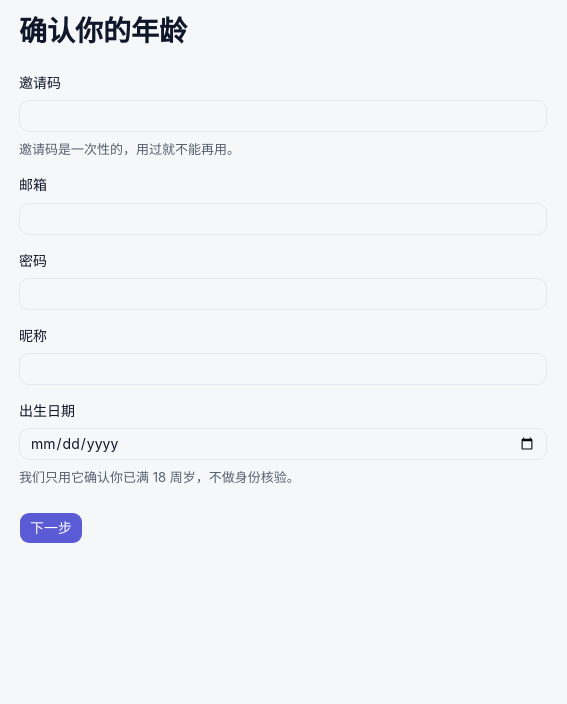
(h) 步骤 0「下一步」不禁用：点击时校验、报错、聚焦第一个出错字段、不前进 › 全空的账号字段 ⇒ 焦点落在邀请码，且多条字段错误同时渲染
Click the button "下一步".
click(51, 528)  # box left=19, top=512, right=83, bottom=544
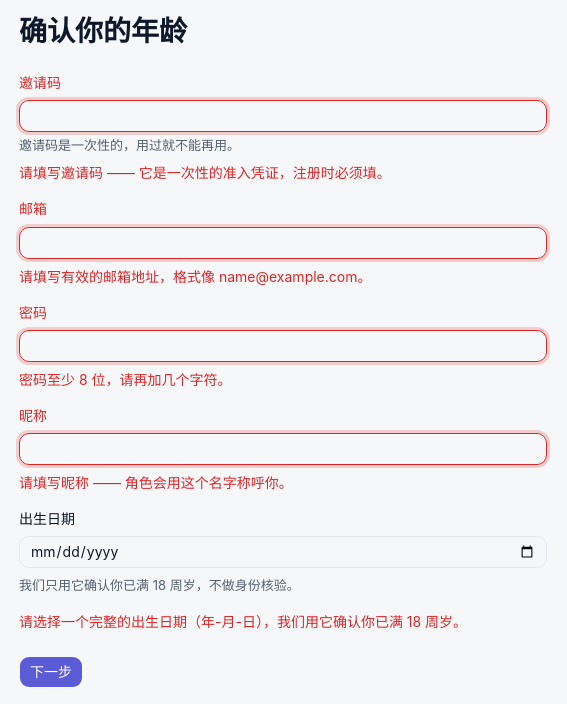
Expected: the text "请填写邀请码 —— 它是一次性的准入凭证，注册时必须填。" is shown, left=19, top=164, right=391, bottom=181
Expected: the text "请填写有效的邮箱地址，格式像 name@example.com。" is shown, left=19, top=268, right=372, bottom=285
Expected: the text "密码至少 8 位，请再加几个字符。" is shown, left=19, top=371, right=232, bottom=388
